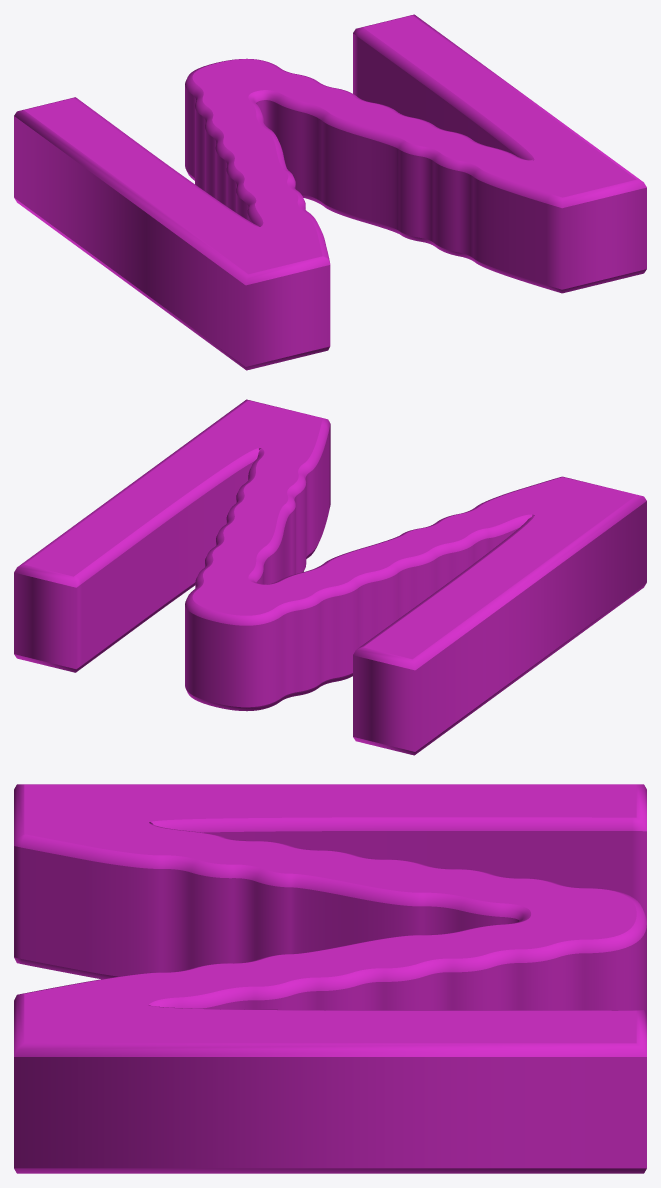
File: Blocky_LetterM.fbx
3 views of the same model, one above another, from view 1: azimuth 30°, elevation 25°; view 2: azimuth 150°, elevation 25°; view 3: azimuth 270°, elevation 25° (orthographic). The views are drawn at different scales.
Parts seen in each view (by area): view 1: BlockyLetter_M; view 2: BlockyLetter_M; view 3: BlockyLetter_M.
Boxes of the visible parts, left/top/right/bottom form: BlockyLetter_M: left=14, top=14, right=646, bottom=370; BlockyLetter_M: left=14, top=399, right=646, bottom=755; BlockyLetter_M: left=14, top=784, right=646, bottom=1173.
Size of the model in its own units: 0.618 by 0.14 by 0.618.
